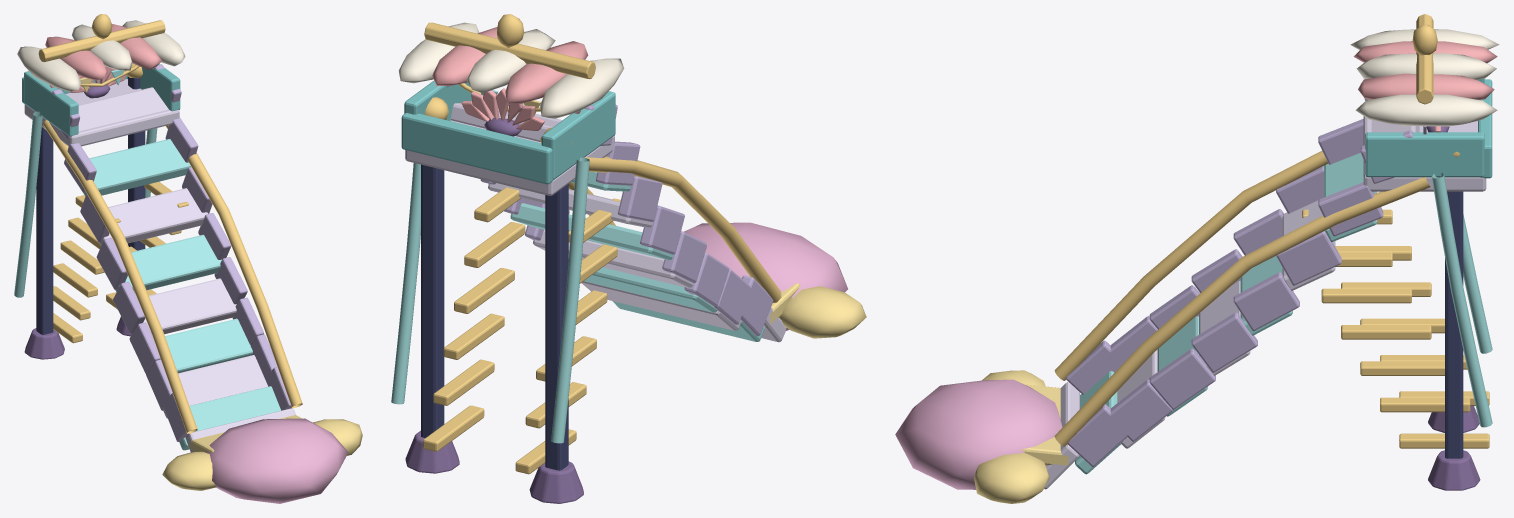
File: lagoon_play_slide.glb
3 views of the same model, side by side, from view 1: azimuth 30°, elevation 25°; view 2: azimuth 150°, elevation 25°; view 3: azimuth 270°, elevation 25° (orthographic). The views are drawn at different scales.
Visible parts, largest first — view 1: lagoon_play_slide.001; view 2: lagoon_play_slide.001; view 3: lagoon_play_slide.001.
Boxes of the visible parts, box(x1,y1,x2,y2) form: lagoon_play_slide.001: box(14, 14, 362, 503); lagoon_play_slide.001: box(391, 14, 866, 503); lagoon_play_slide.001: box(895, 14, 1499, 503).
Size of the model in its own units: 4.44 by 7.66 by 9.36.
